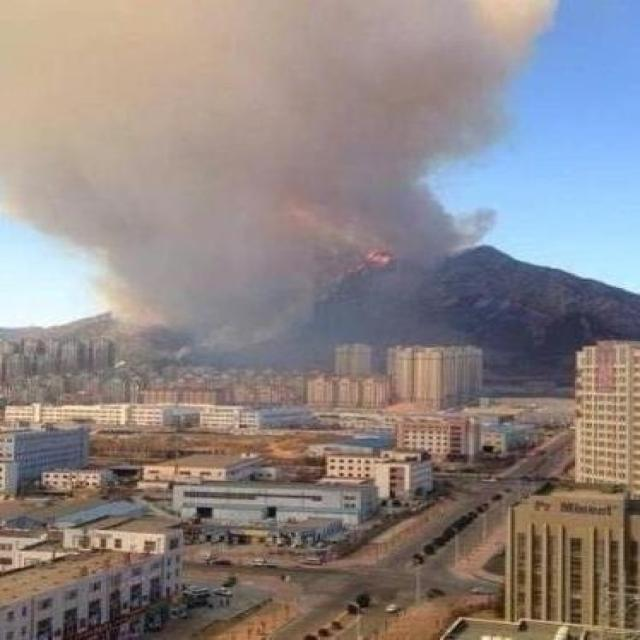Smoke: (1, 1, 556, 355)
